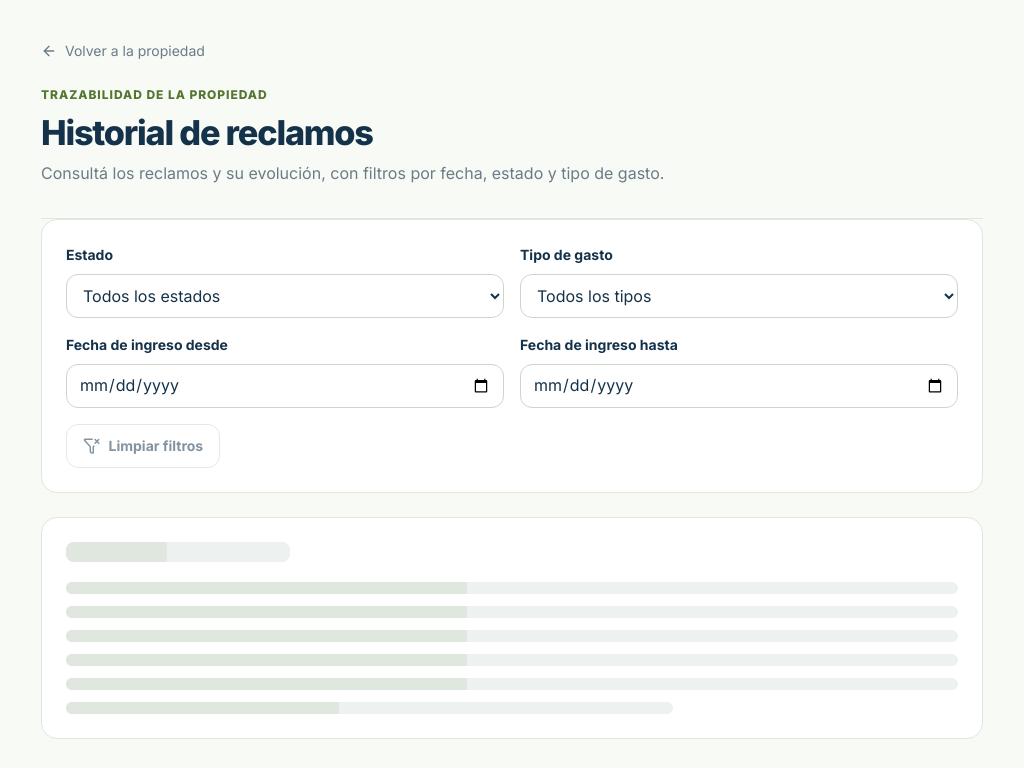
Test: historial por propiedad › descarta una respuesta antigua si el filtro cambia mientras carga
The width and height of the screenshot is (1024, 768).
Select "Resuelto" in the dropdown labelled "Estado" at (285, 296), box [66,274,504,318]
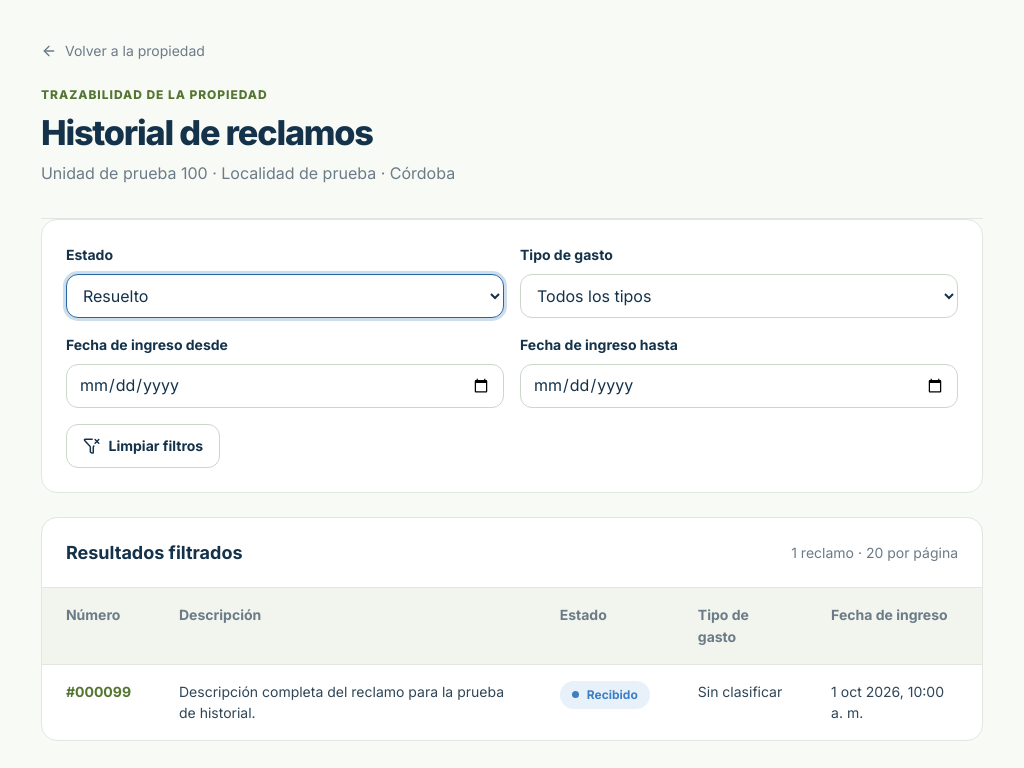
Check: the link named "Ver reclamo #000099" is shown, box [66,683,131,700]
